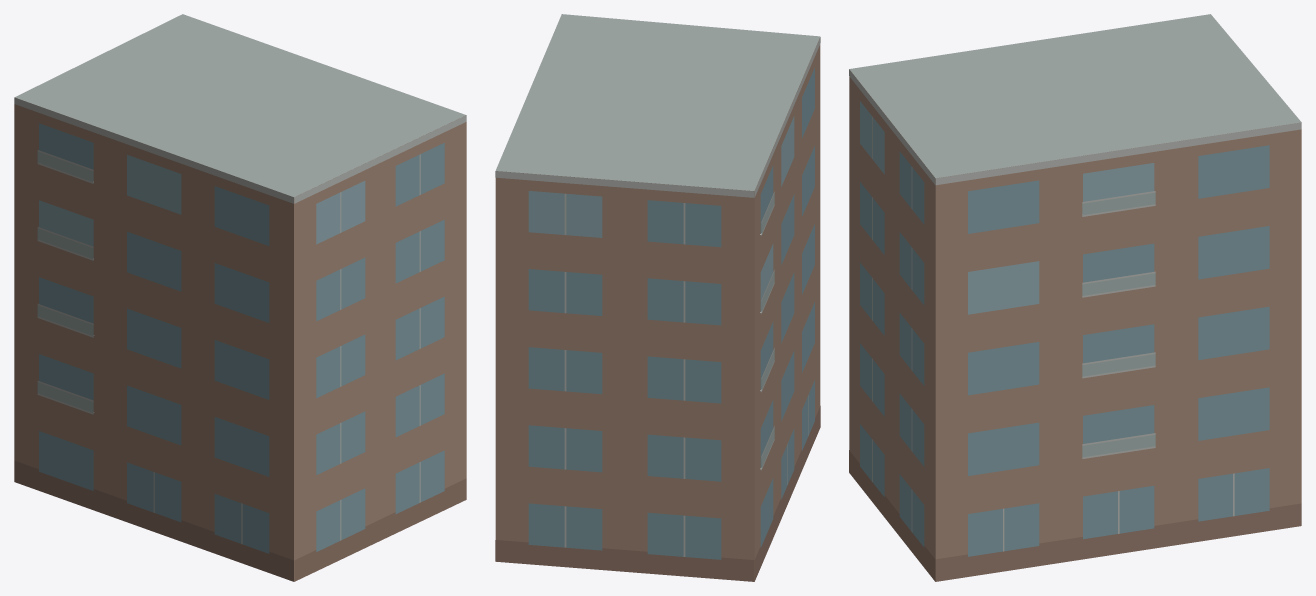
Rendered from survey-upis-33023370.glb.
3 views of the same model, side by side, from view 1: azimuth 30°, elevation 25°; view 2: azimuth 150°, elevation 25°; view 3: azimuth 270°, elevation 25° (orthographic). The views are drawn at different scales.
Visible parts, largest first — view 1: survey-upis-33023370.tmp; view 2: survey-upis-33023370.tmp; view 3: survey-upis-33023370.tmp.
Boxes of the visible parts, x1,y1,x2,y2 form: survey-upis-33023370.tmp: (14,14,466,581); survey-upis-33023370.tmp: (495,14,820,581); survey-upis-33023370.tmp: (849,14,1301,581).
Bounding box in the file's own units: 12.32 × 14.1 × 14.34.
